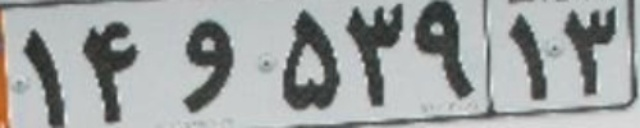1: (20, 29, 69, 126), (508, 14, 547, 99)
3: (344, 3, 404, 107), (562, 6, 616, 96)
4: (82, 19, 136, 122)
5: (281, 9, 340, 109)
9: (416, 1, 474, 98)
vav: (181, 21, 234, 111)
